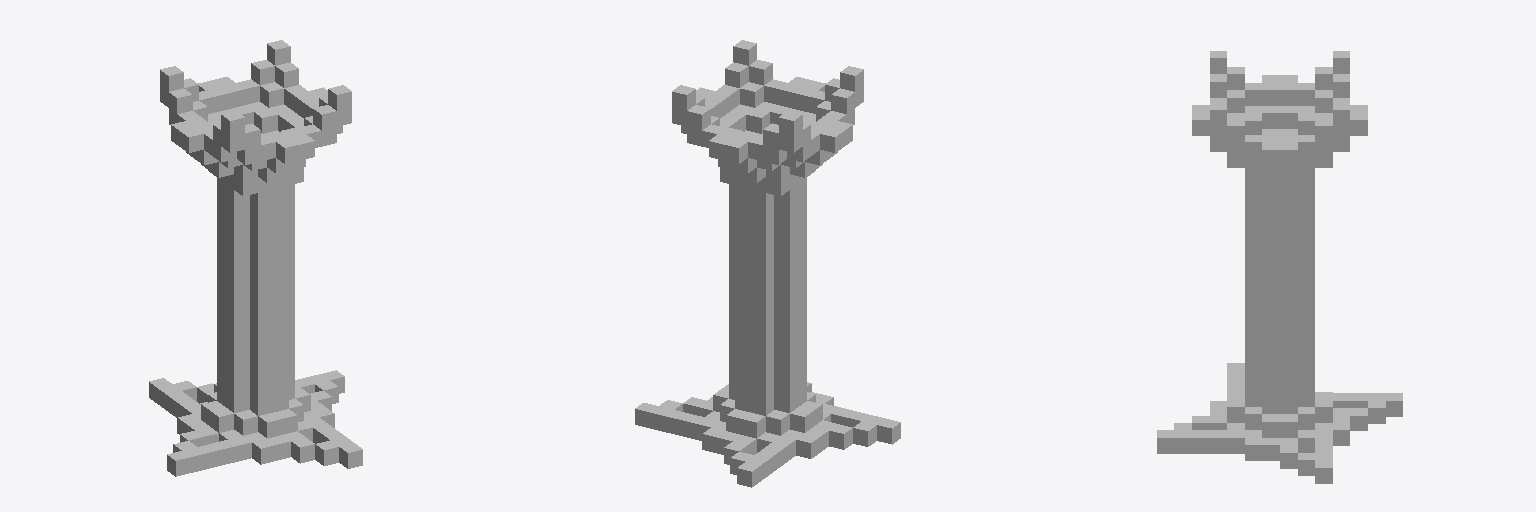
The model's file is st_post_corr.obj.
The picture shows the model from 3 angles: view 1: azimuth 30°, elevation 25°; view 2: azimuth 150°, elevation 25°; view 3: azimuth 270°, elevation 25°; orthographic projection.
Parts seen in each view (by area): view 1: st_post; view 2: st_post; view 3: st_post.
Part boxes in pixels (x1,y1,x2,y2): st_post: (149,40,362,476); st_post: (635,40,900,487); st_post: (1157,51,1402,483).
Bounding box in the file's own units: 0.6567 × 1.03 × 0.6567.